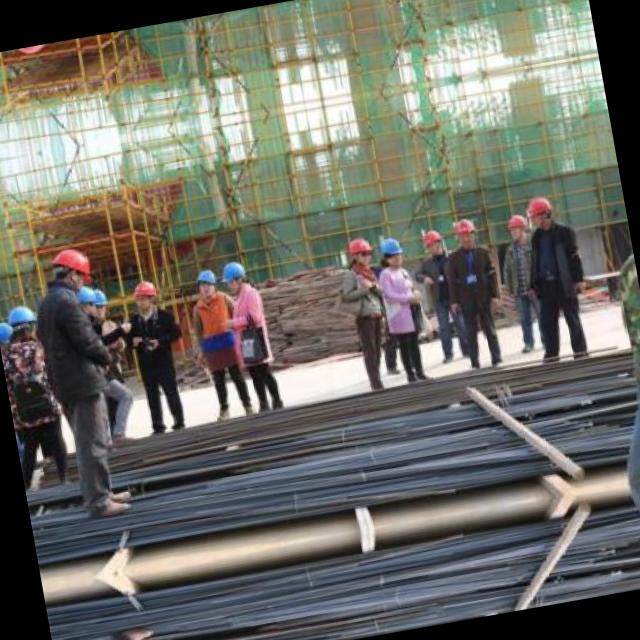helmet: (46, 244, 98, 294), (3, 298, 40, 344), (521, 190, 556, 232), (216, 254, 252, 294), (449, 212, 482, 252), (127, 276, 161, 313), (375, 229, 408, 267), (81, 282, 109, 324), (344, 232, 375, 269), (502, 208, 530, 247), (70, 280, 98, 318), (416, 224, 446, 258), (192, 266, 220, 299), (9, 42, 56, 59)
